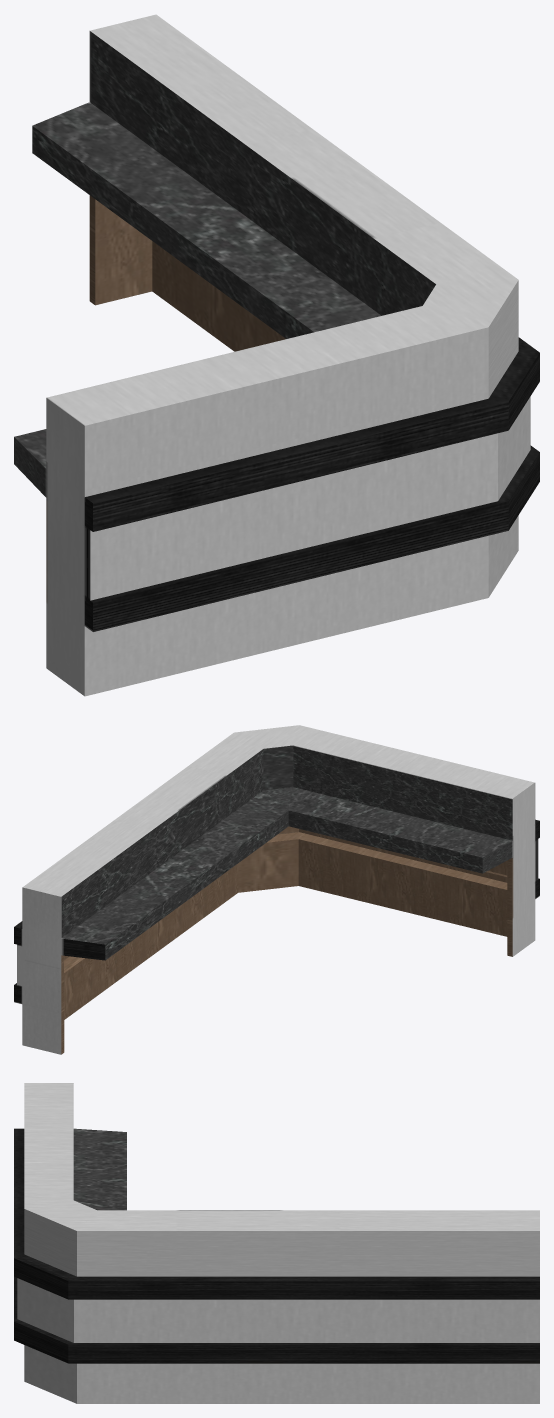
Rendered from receotion_counter.fbx.
3 renders of one model, top to bottom at view 1: azimuth 30°, elevation 25°; view 2: azimuth 150°, elevation 25°; view 3: azimuth 270°, elevation 25°, orthographic. The views are drawn at different scales.
Parts seen in each view (by area): view 1: pCube1; view 2: pCube1; view 3: pCube1.
Boxes of the visible parts, left/top/right/bottom form: pCube1: left=14, top=14, right=539, bottom=696; pCube1: left=14, top=725, right=539, bottom=1054; pCube1: left=14, top=1083, right=539, bottom=1403.
Size of the model in its own units: 2.57 by 1.36 by 3.75.
